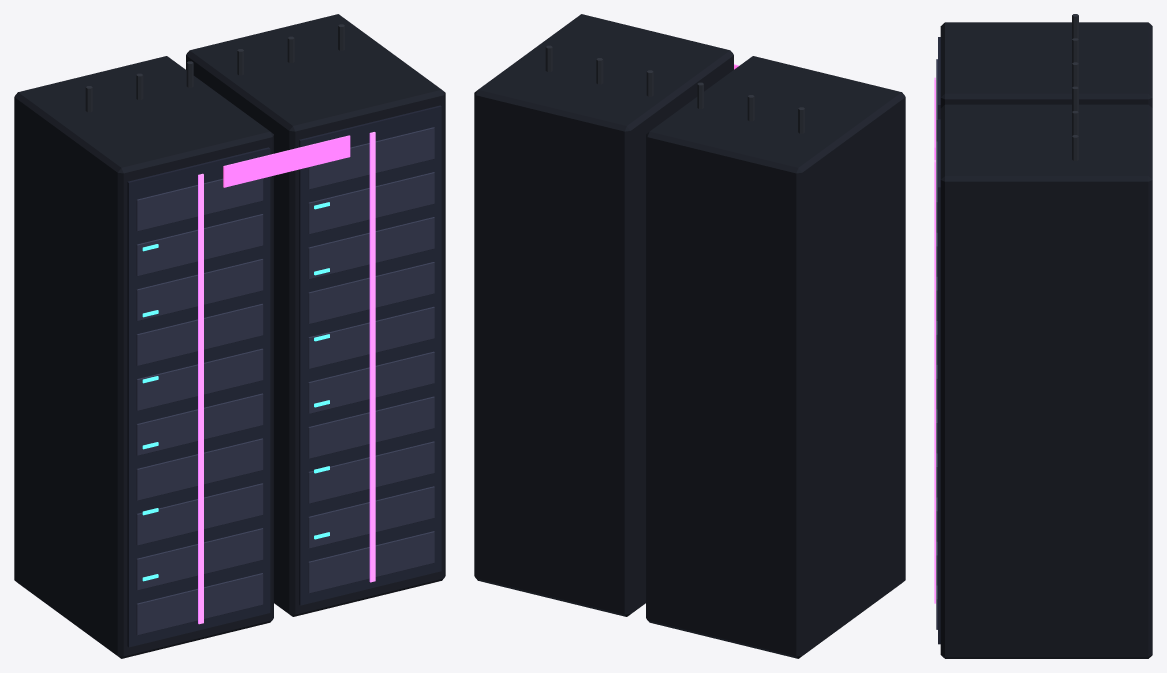
File: servidor_ia.glb
The picture shows the model from 3 angles, left to right: view 1: azimuth 30°, elevation 25°; view 2: azimuth 150°, elevation 25°; view 3: azimuth 270°, elevation 25°; orthographic projection.
Visible parts, largest first — view 1: Cube; view 2: Cube; view 3: Cube.
Boxes of the visible parts, x1,y1,x2,y2 form: Cube: (14,14,445,658); Cube: (474,14,905,658); Cube: (934,14,1152,658).
Size of the model in its own units: 1.3 by 1.95 by 0.763.
